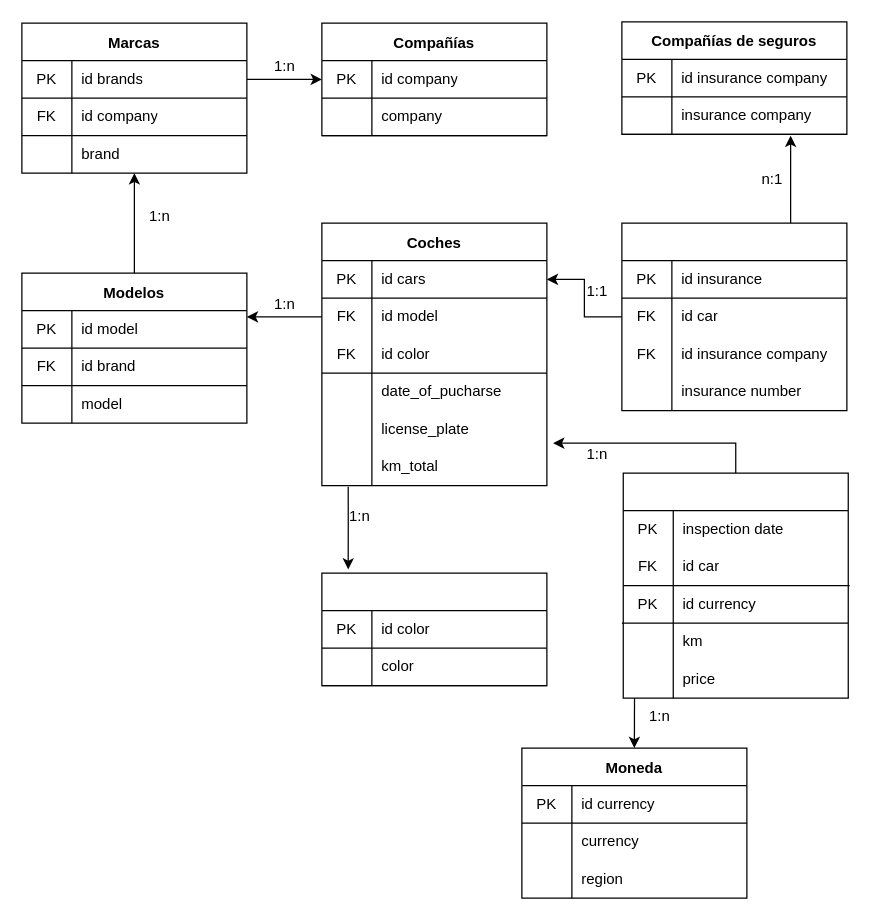
Image size: 874x920. Some labels were removed from this diagram. The box of each missing label's shape, as (x1, y1, x2, y2) in pixels:
Colores: (321, 572, 547, 686)
Inspecciones: (622, 472, 848, 698)
Seguros: (621, 222, 847, 411)
